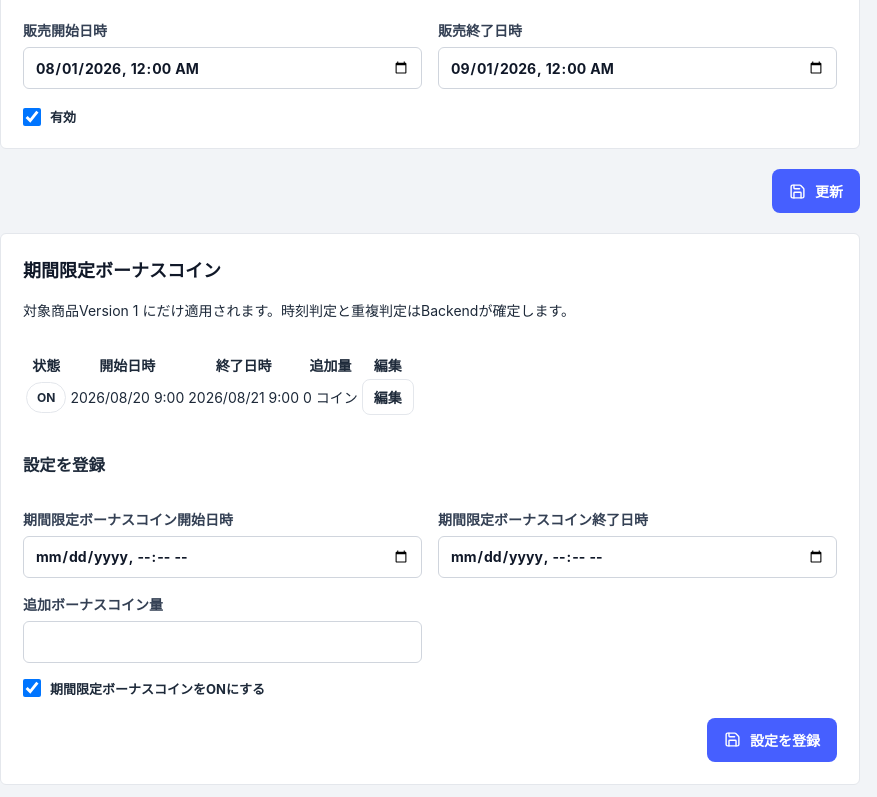
it: Point purchase management › shows an invalid saved bonus when selected and keeps reversed periods unsavable
(page scrolled)
expect the text "0 コイン" is shown: met, box [302,378,359,416]
Click the button "編集": (388, 397) [362,379,414,415]
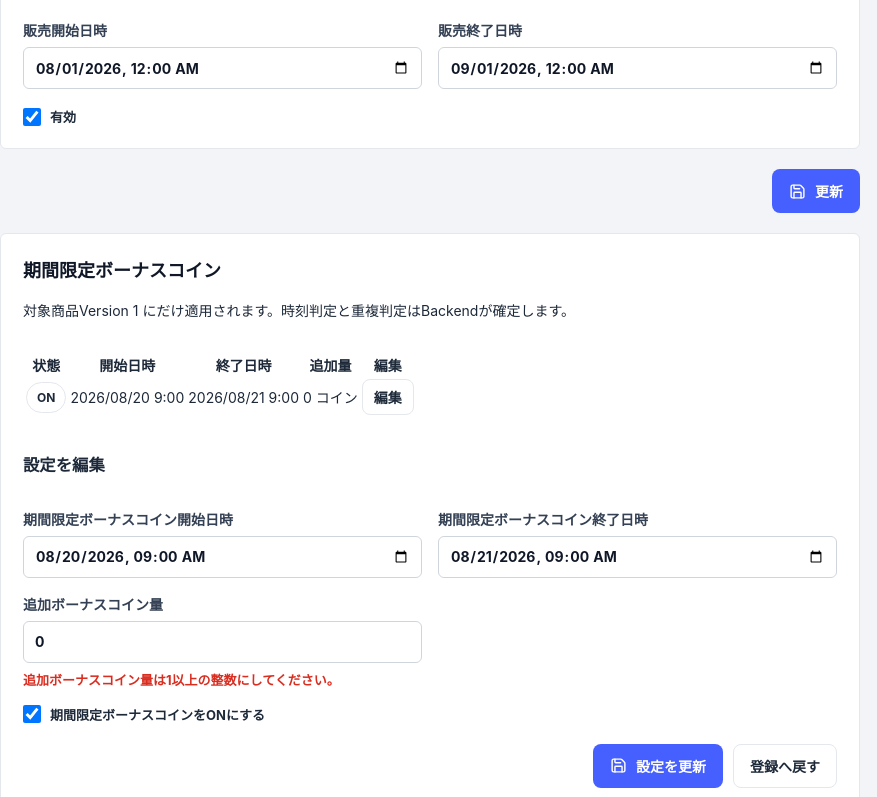
expect the text "追加ボーナスコイン量は1以上の整数にしてください。" is shown: met, box [23,672,340,688]
Replace the text in the number field labelled "追加ボーナスコイン量" with "100": (222, 642) [23,621,422,663]
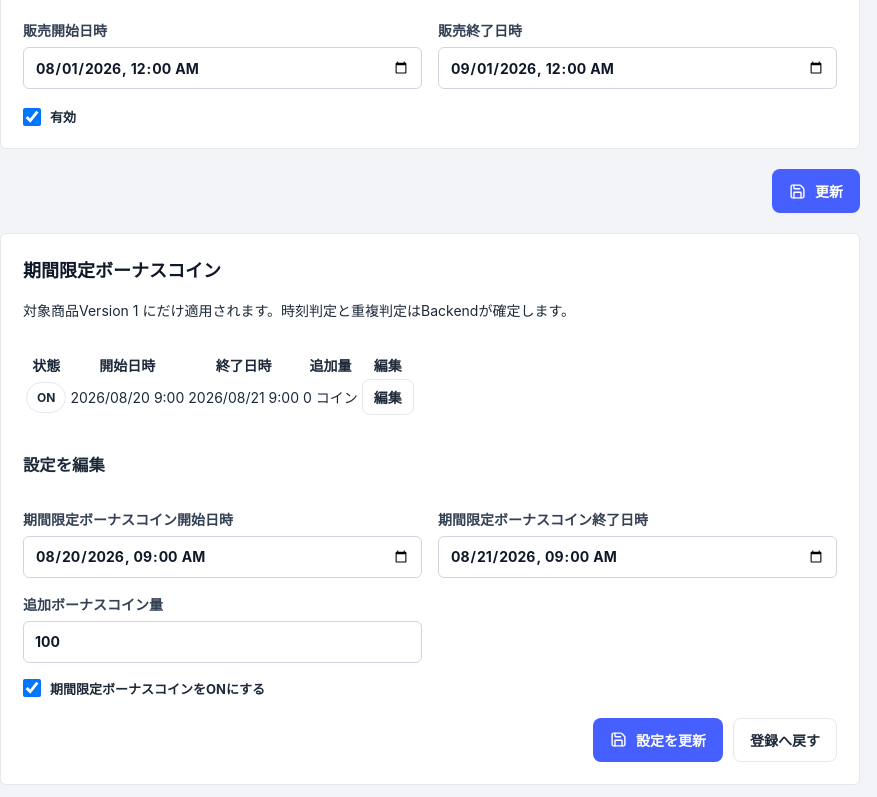
Replace the text in the field labelled "期間限定ボーナスコイン終了日時" with "2026-08-19T09:00": (638, 557) [438,536,837,578]
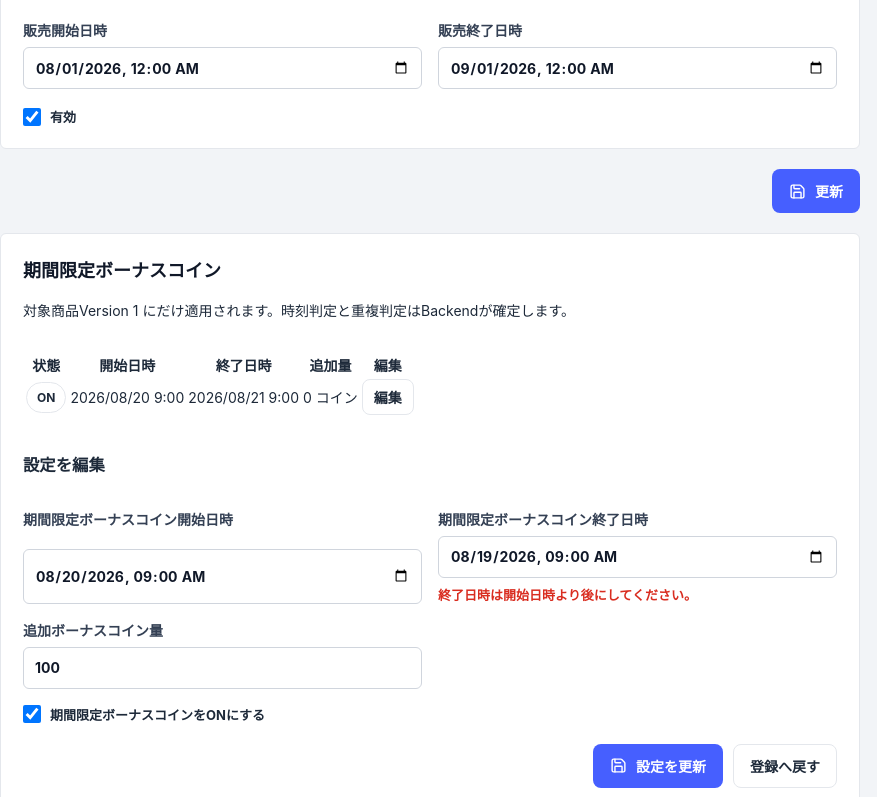
expect the text "終了日時は開始日時より後にしてください。" is shown: met, box [438,587,697,603]
Submit the form named "期間限定ボーナスコイン設定", box [23,436,837,788]
Replace the text in the field labelled "期間限定ボーナスコイン終了日時" with "2026-08-21T09:00": (638, 557) [438,536,837,578]
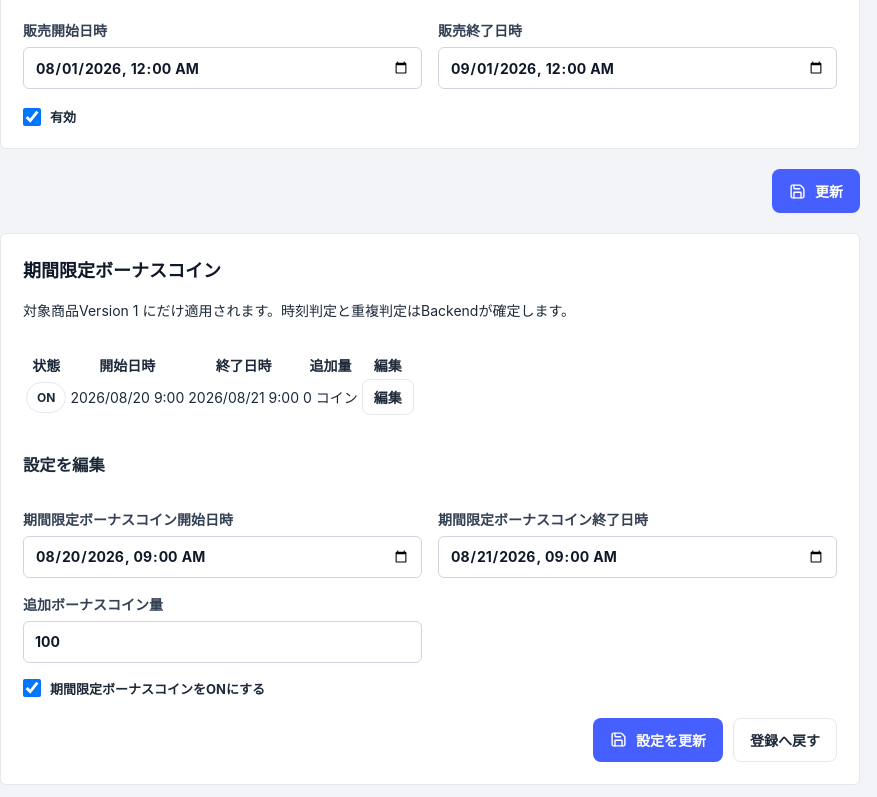
expect the message "終了日時は開始日時より後にしてください。" is gone: met
